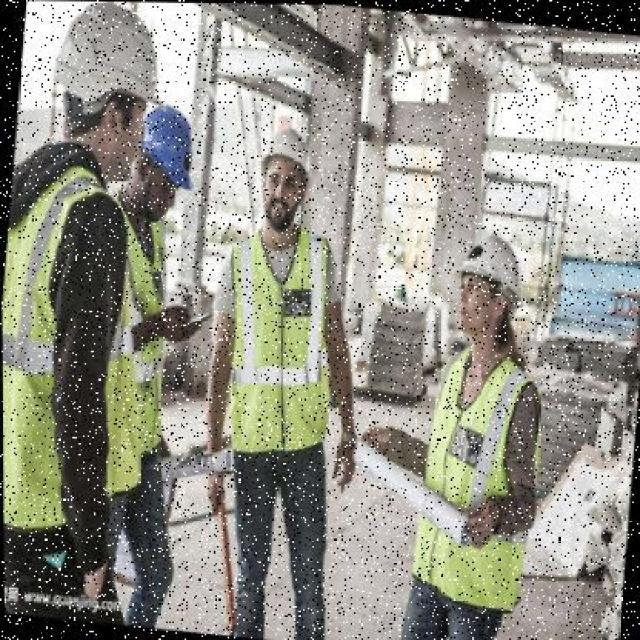helmet: (43, 0, 173, 128), (128, 91, 213, 199), (454, 222, 527, 312), (251, 114, 319, 184)
vest: (2, 148, 138, 524), (402, 338, 548, 614), (197, 223, 363, 465), (80, 192, 194, 462)
